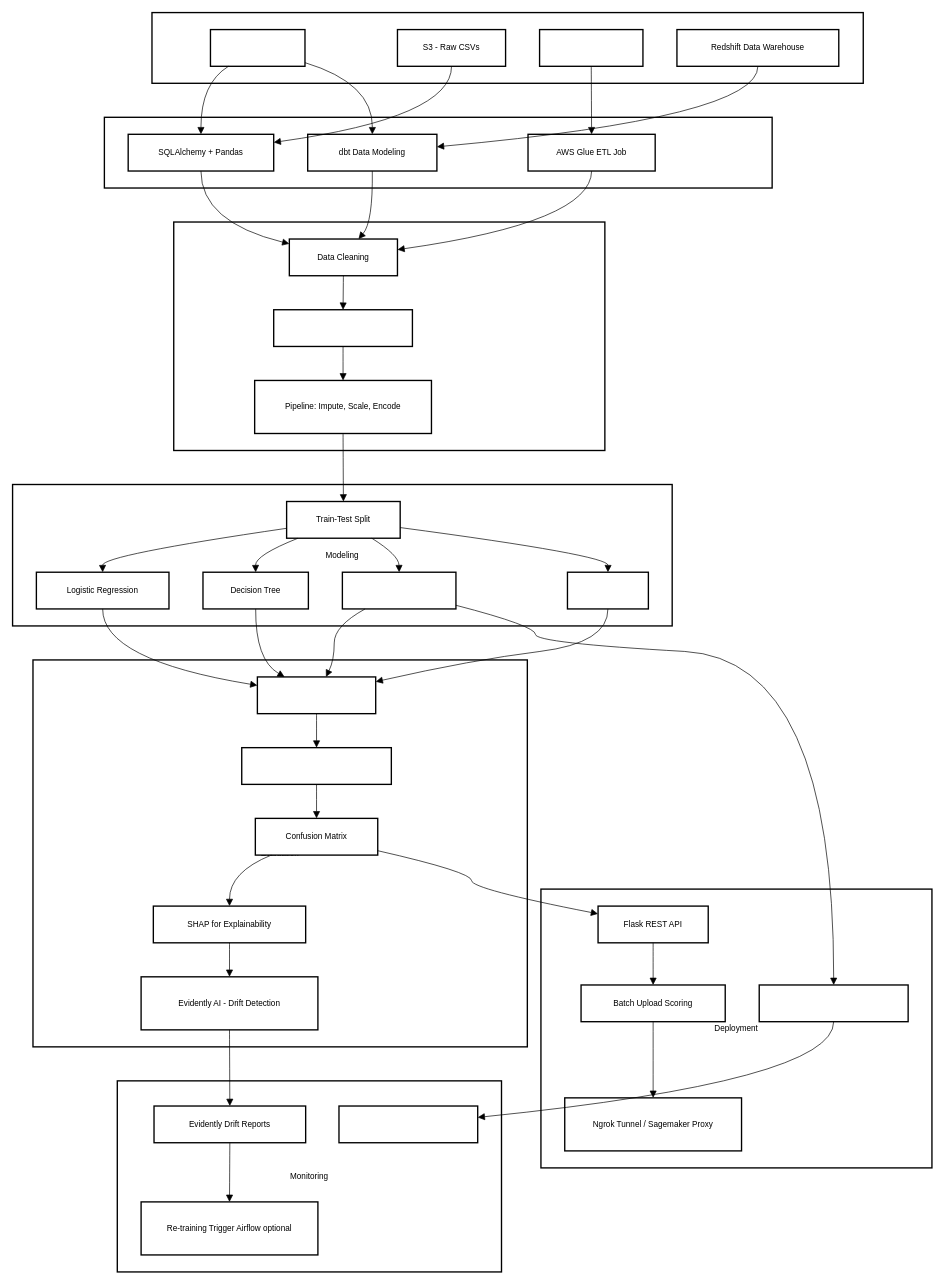
The diagram is 944 pixels wide and 1284 high, and some of its shapes have lost their labels. The box of each missing label's shape, as (x1, y1, x2, y2) in pixels:
Cross Validation: (256, 676, 376, 714)
Data_Sources: (151, 12, 864, 84)
Feature Engineering: (273, 309, 413, 347)
Glue Catalog: (539, 29, 643, 67)
Ingestion: (103, 116, 772, 188)
MLflow Experiments: (338, 1105, 478, 1143)
Model Registry MLflow: (758, 984, 908, 1022)
PostgreSQL: (209, 29, 305, 67)
Precision / Recall / F1: (241, 747, 392, 785)
Random Forest: (341, 571, 456, 609)
XGBoost: (566, 571, 649, 609)
